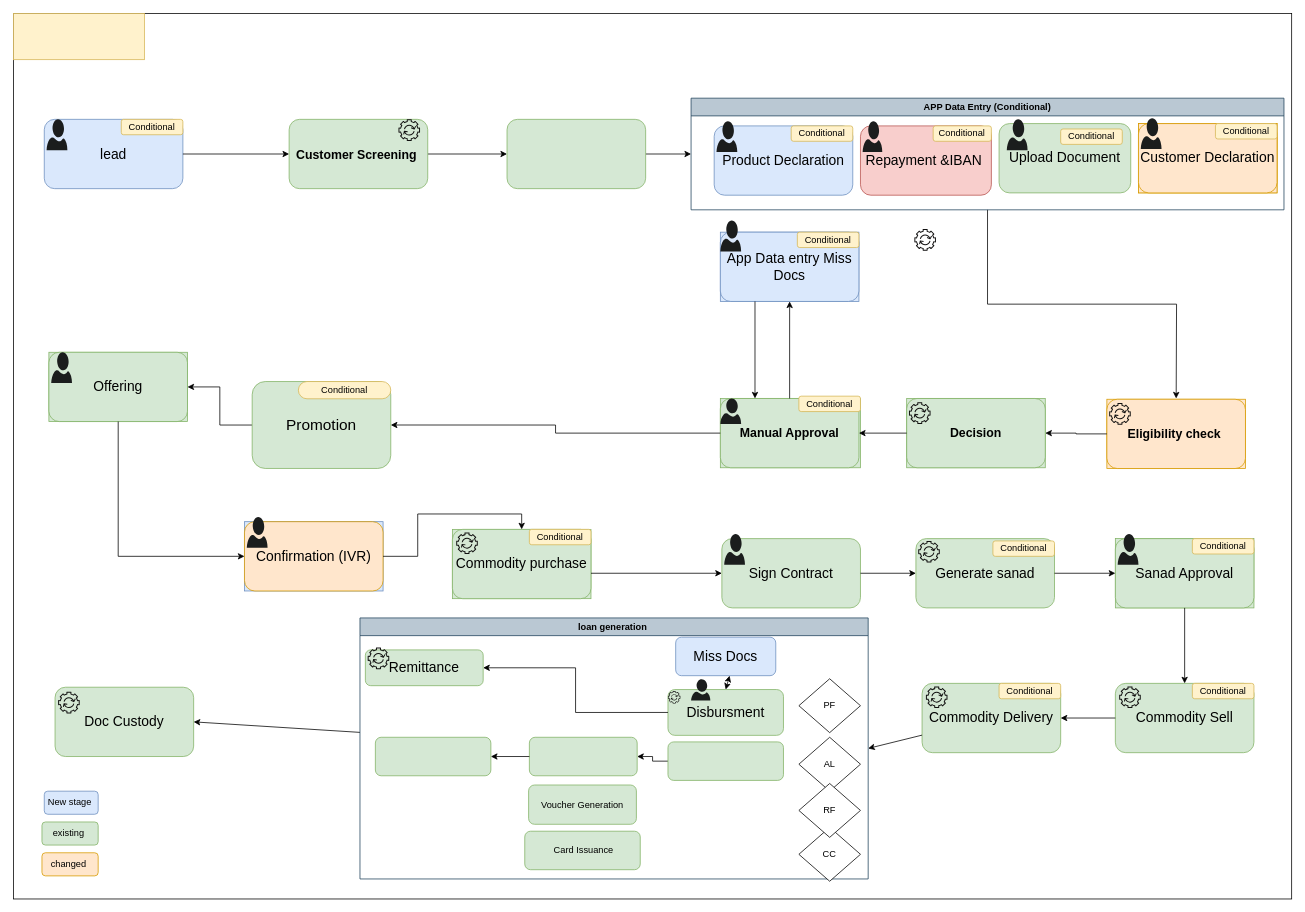
Some shapes in this 1305 by 912 pixel diagram are drawn without their labels. The shapes that lost their labels are listed below. From the top down, each one's centre as x and y in pixels, then its label:
At (x=78, y=36): "Emkan WorkFlow".
At (x=576, y=154): "GenerateApplication".
At (x=433, y=756): "Asset Delivery".
At (x=583, y=756): "Asset Registration".
At (x=725, y=760): "Purchase Order".
